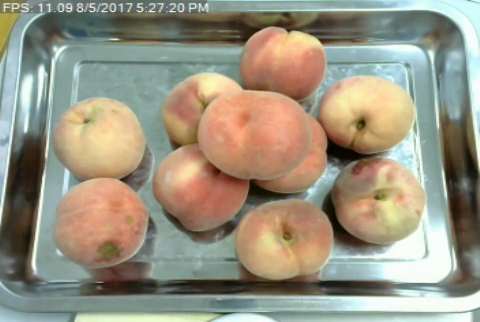Peach: (196, 88, 310, 179), (52, 176, 148, 268), (327, 155, 426, 244), (154, 139, 249, 231), (232, 199, 335, 280), (52, 96, 146, 181), (317, 74, 413, 154), (239, 25, 326, 102), (159, 71, 236, 148)
